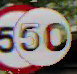Speed limit: (3, 2, 73, 70)
